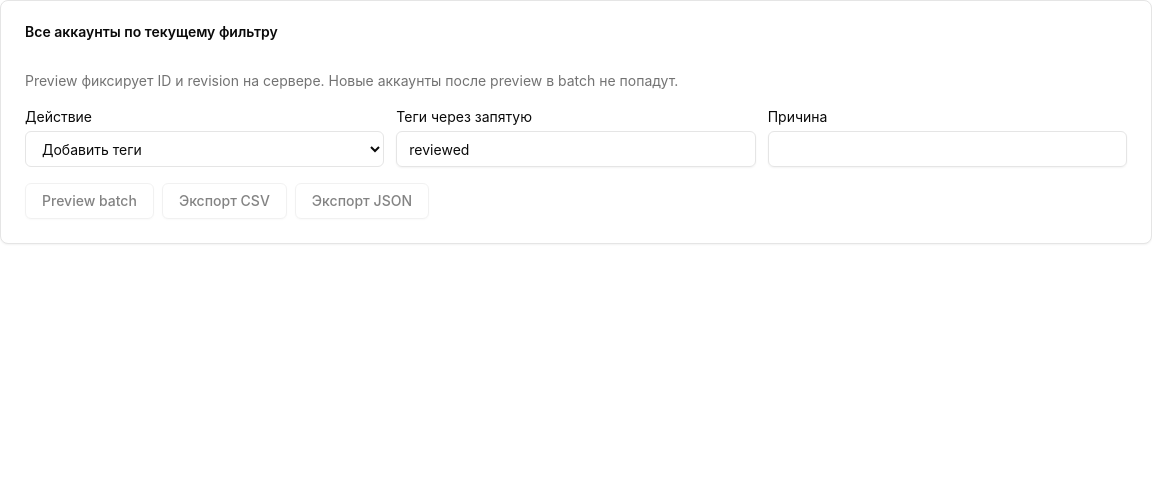
Test case: bulk controls › previews the server-side filter before executing the frozen snapshot
Type "scheduled batch" into the field labelled "Причина". click: (947,149)
box: [768,131,1127,167]
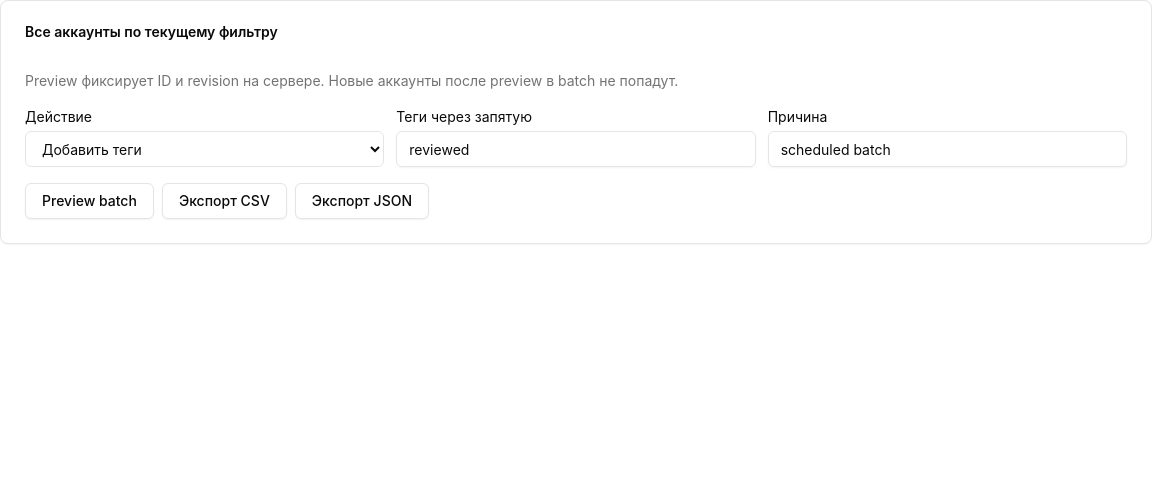
Click the button "Preview batch". click: (89,201)
box: [25,183,154,219]
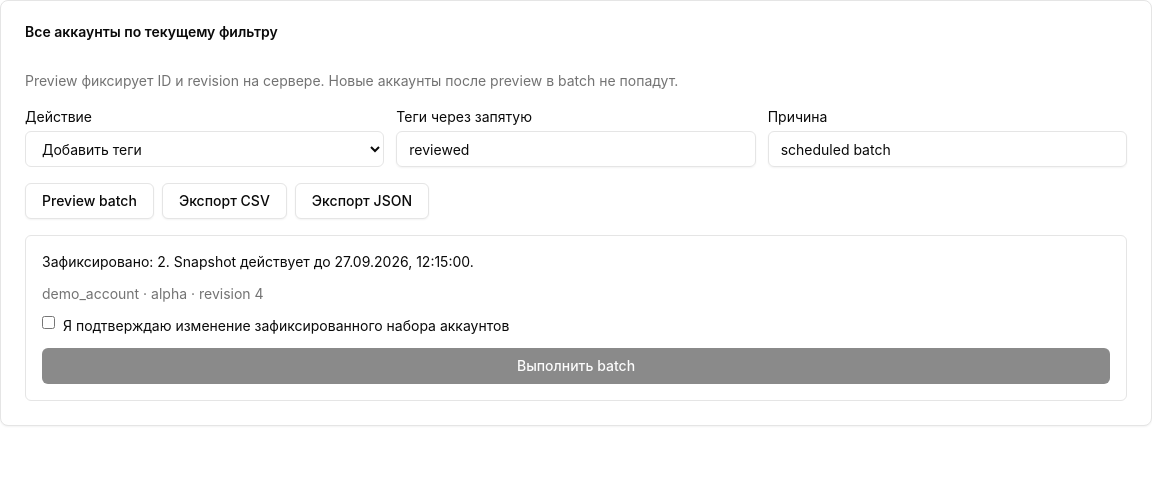
Check: the text "Зафиксировано: 2" is shown, box [42,253,474,270]
Click the checkbox labelled "Я подтверждаю изменение зафиксированного набора аккаунтов". click: (48,322)
box: [42,316,55,329]
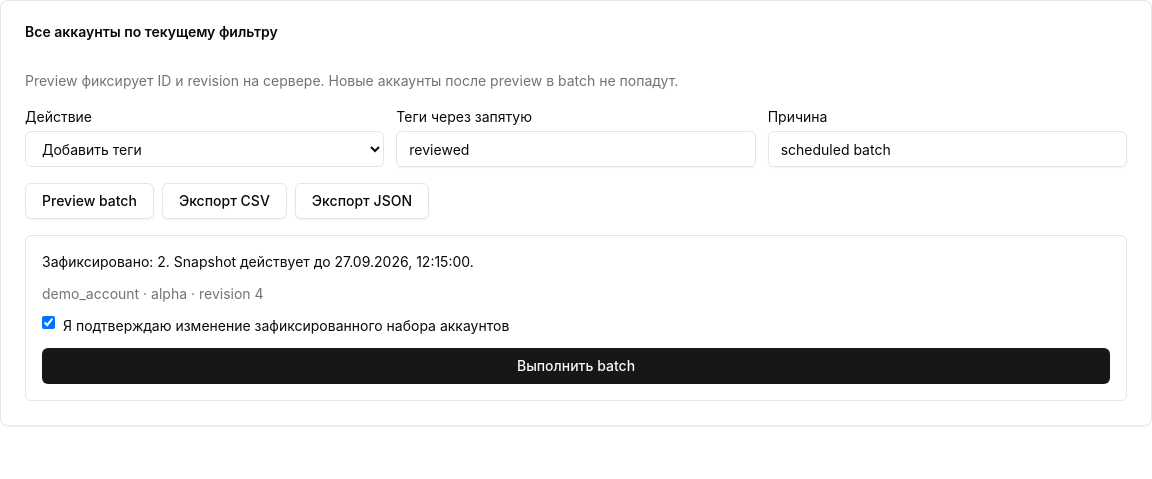
Click the button "Выполнить batch". click: (576,366)
box: [42,348,1110,384]
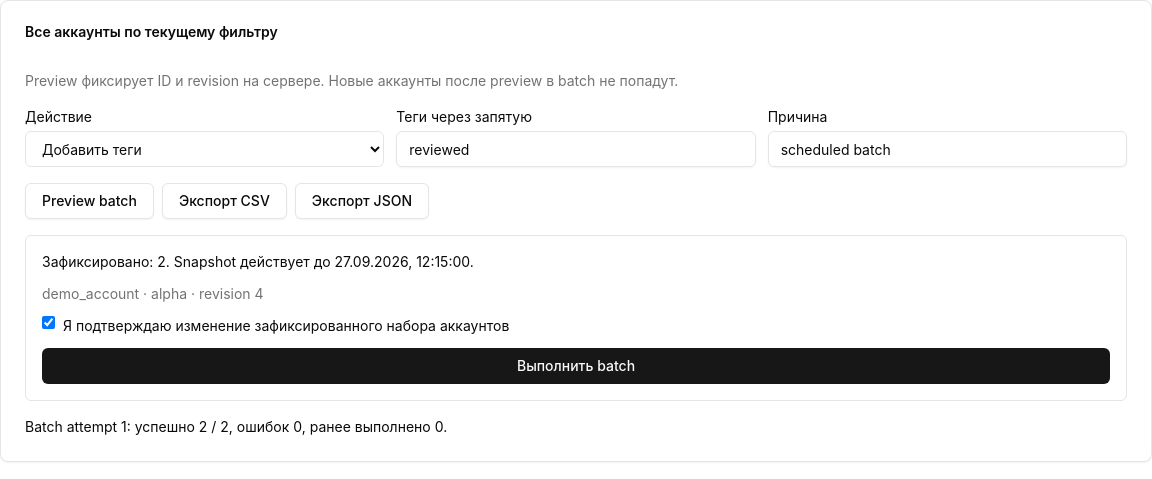
Check: the message shows "успешно 2 / 2", box [25,418,447,435]
